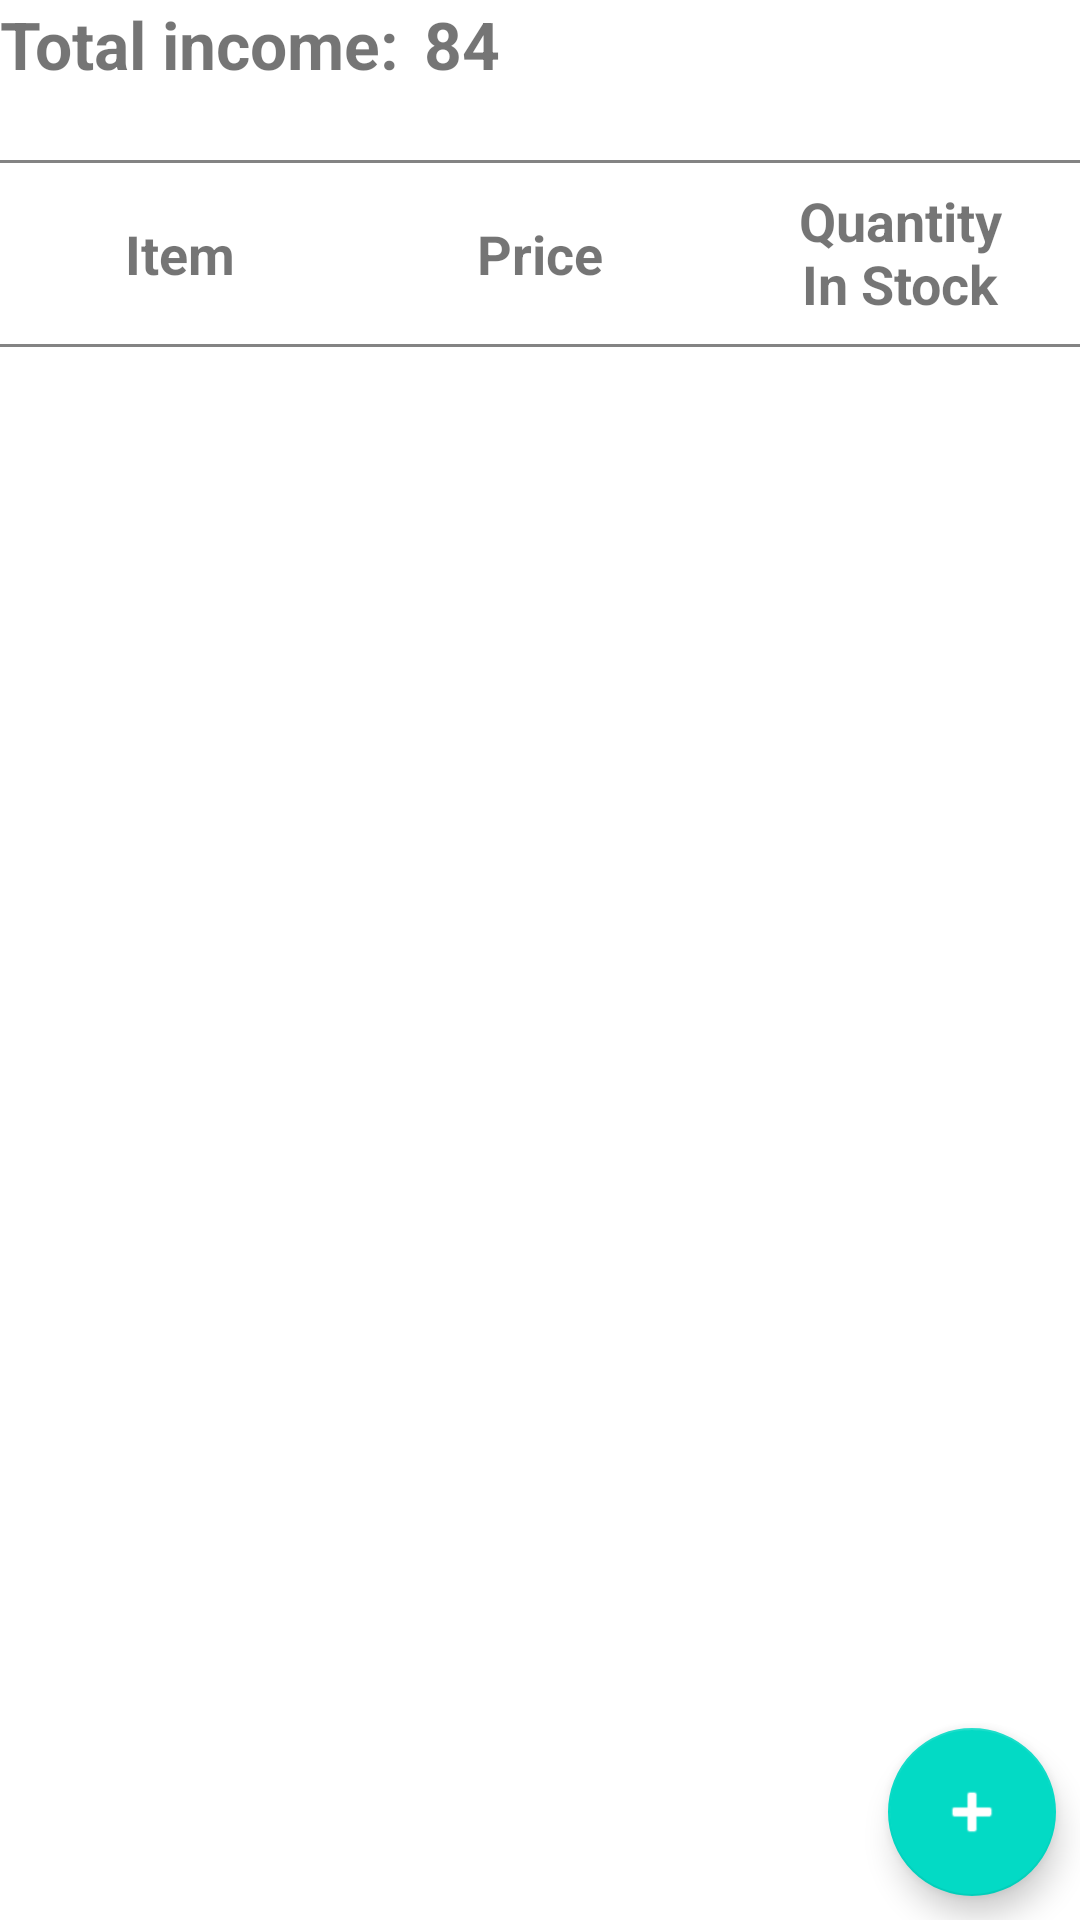

Where to tap for icons on this 1080 x 1920 app screen, as point (x, y):
Add new item: point (972, 1812)
